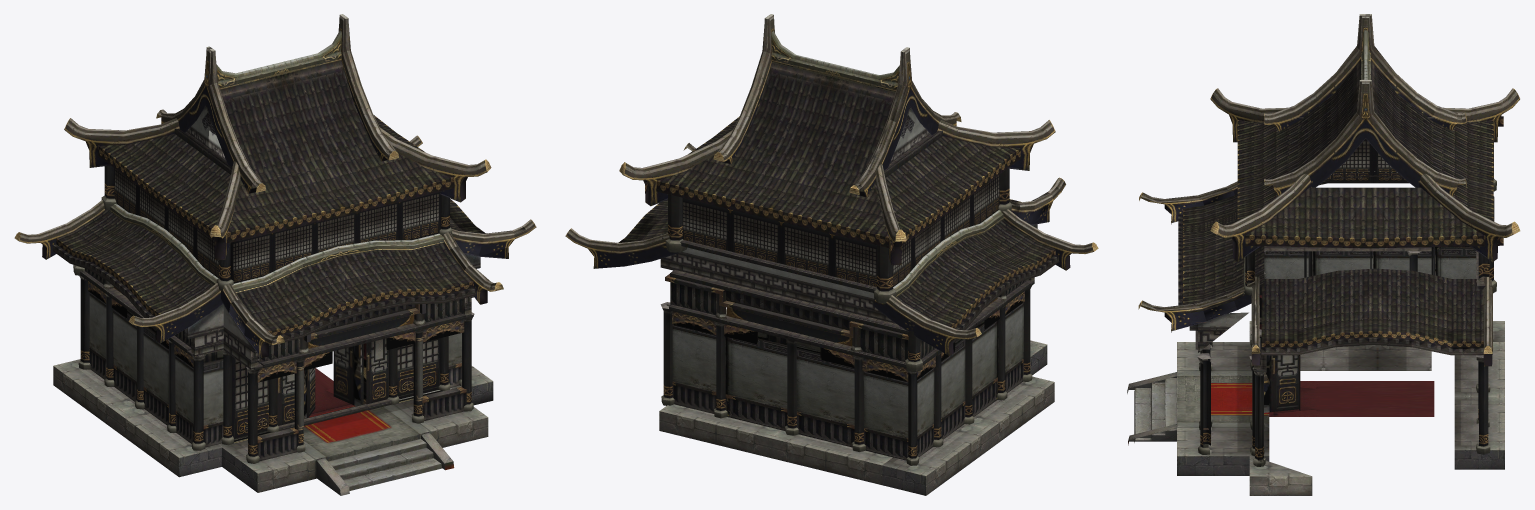
File: cj_luoyang_shangpu04_55_42_4878out.fbx
3 views of the same model, side by side, from view 1: azimuth 30°, elevation 25°; view 2: azimuth 150°, elevation 25°; view 3: azimuth 270°, elevation 25° (orthographic). The views are drawn at different scales.
Visible parts, largest first — view 1: cj_luoyang_shangpu04; view 2: cj_luoyang_shangpu04; view 3: cj_luoyang_shangpu04.
Part boxes in pixels (left/top/right/bottom): cj_luoyang_shangpu04: left=14, top=14, right=536, bottom=495; cj_luoyang_shangpu04: left=565, top=14, right=1098, bottom=495; cj_luoyang_shangpu04: left=1127, top=14, right=1520, bottom=495.
Bounding box in the file's own units: 20.2 × 17.43 × 16.79.
